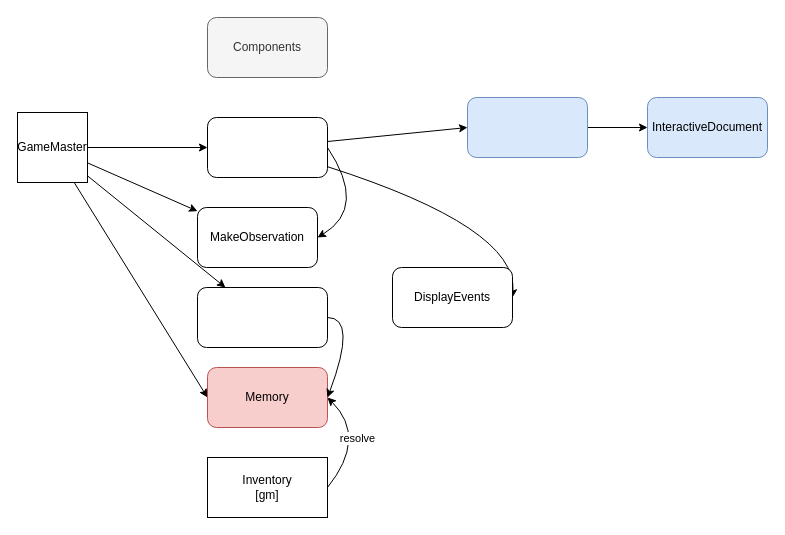
This 785x535 diagram has some shape labels left out. The shapes that lost their labels are listed below. From the top down, each one's centre as x and y in pixels, then its label:
the point at 267,147: EventResolution
the point at 527,127: ThoughtChains
the point at 262,317: ObservationToMemory
